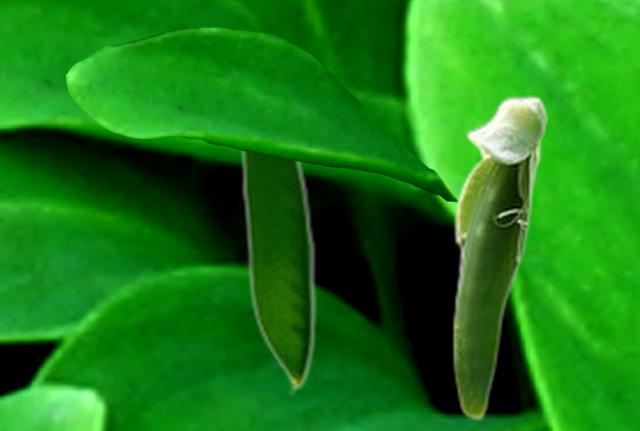pea: (451, 95, 548, 420), (237, 150, 316, 396)
